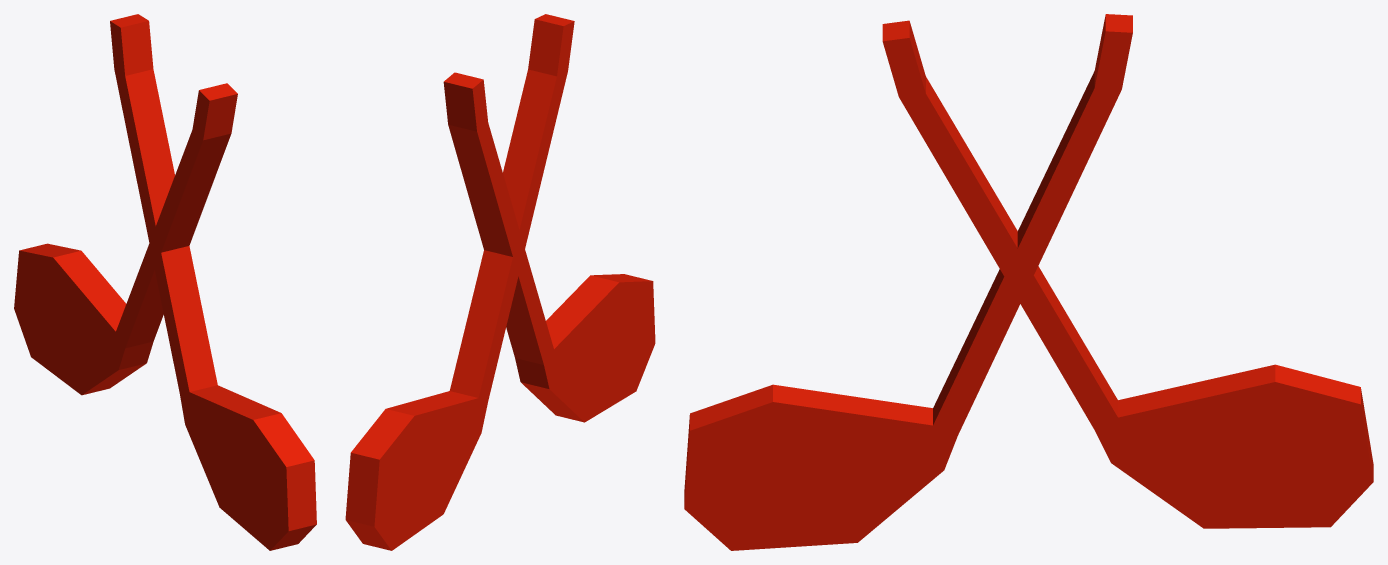
Rendered from wrongnote.fbx.
3 renders of one model, left to right at view 1: azimuth 30°, elevation 25°; view 2: azimuth 150°, elevation 25°; view 3: azimuth 270°, elevation 25°, orthographic. The views are drawn at different scales.
Parts seen in each view (by area): view 1: WrongNote; view 2: WrongNote; view 3: WrongNote.
Boxes of the visible parts, x1,y1,x2,y2 form: WrongNote: (14,14,316,550); WrongNote: (345,14,655,550); WrongNote: (684,14,1373,550).
Size of the model in its own units: 0.6927 by 9.68 by 11.64.
